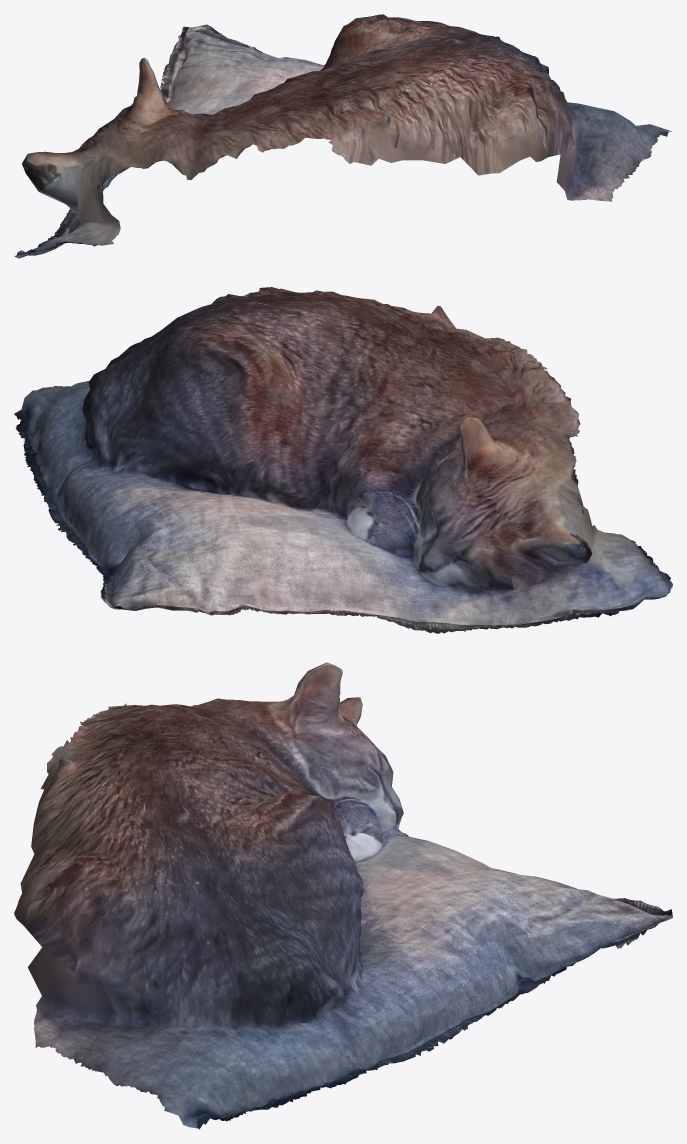
The model's file is sleepycat.obj.
The picture shows the model from 3 angles, top to bottom: view 1: azimuth 30°, elevation 25°; view 2: azimuth 150°, elevation 25°; view 3: azimuth 270°, elevation 25°; orthographic projection. The views are drawn at different scales.
Parts seen in each view (by area): view 1: Model; view 2: Model; view 3: Model.
Part boxes in pixels (left/top/right/bottom): Model: left=14, top=14, right=671, bottom=258; Model: left=14, top=287, right=672, bottom=633; Model: left=14, top=662, right=672, bottom=1129.
Bounding box in the file's own units: 41.09 × 10.72 × 30.58.
